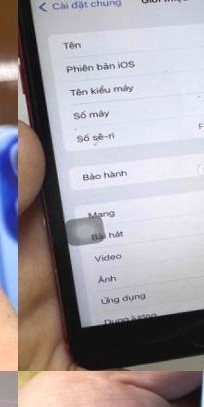scratch: (62, 113, 113, 152), (184, 87, 204, 111)
